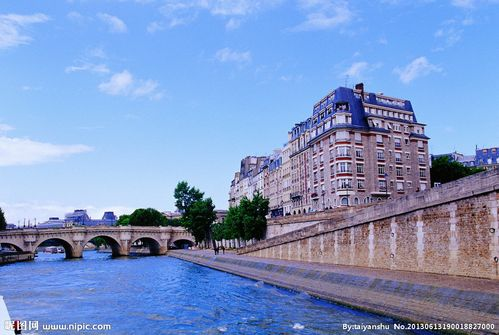buildings: (250, 80, 440, 227)
